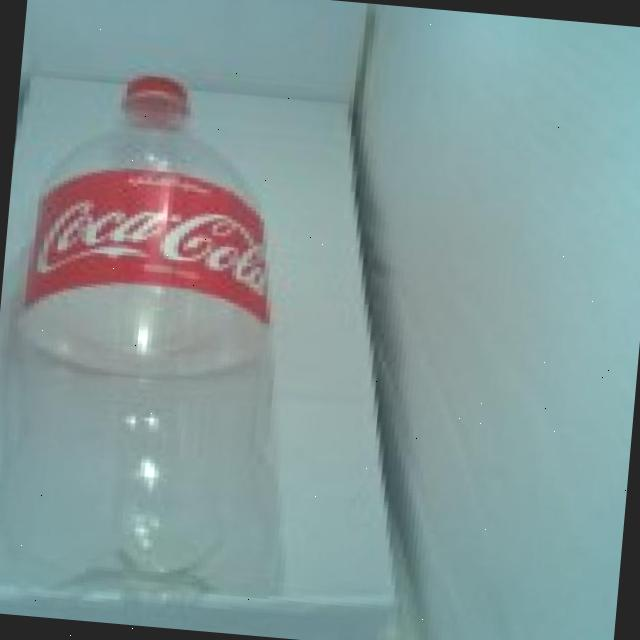trash: (0, 45, 340, 613)
